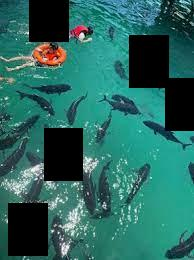fish: (139, 116, 192, 158), (122, 159, 161, 214), (84, 111, 121, 156), (24, 76, 76, 97), (107, 54, 136, 85)
